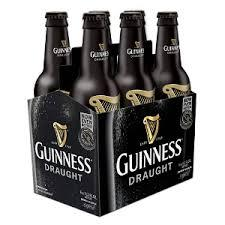Glass bottle: (24, 3, 202, 111)
